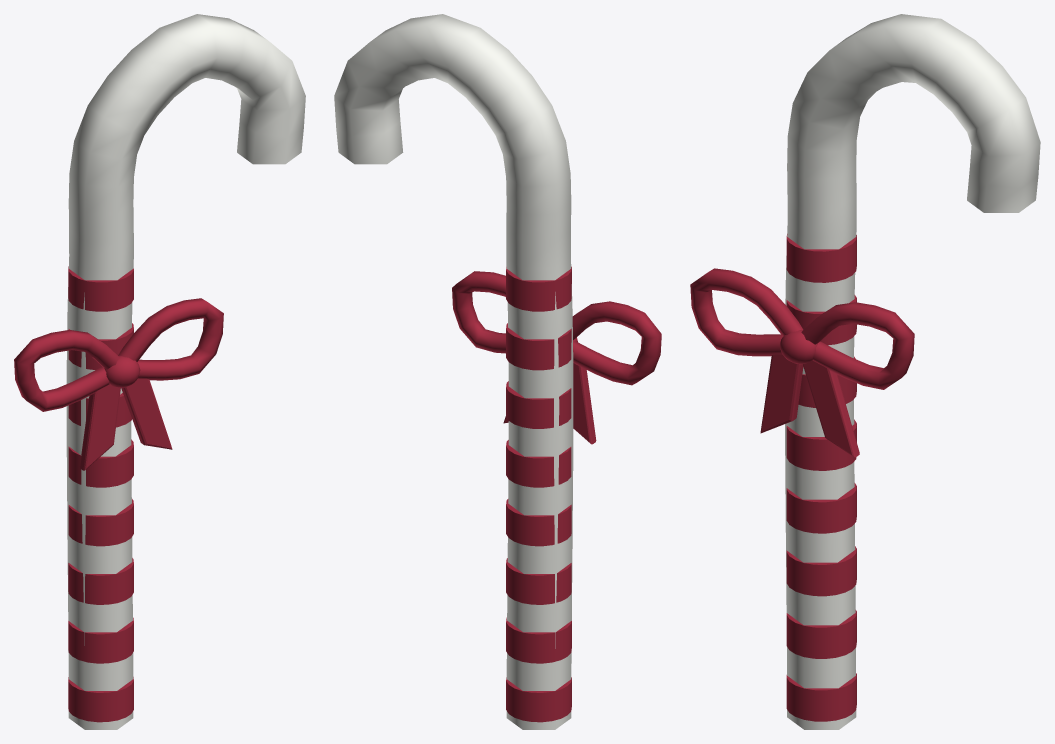
The model's file is christmas-storybook-ribbon-candy-cane-44f4f04d__18768.glb.
3 views of the same model, side by side, from view 1: azimuth 30°, elevation 25°; view 2: azimuth 150°, elevation 25°; view 3: azimuth 330°, elevation 25° (orthographic). The views are drawn at different scales.
Parts seen in each view (by area): view 1: cream, berry; view 2: cream, berry; view 3: cream, berry.
Boxes of the visible parts, x1=… form: cream: x1=66, y1=14, x2=305, y2=729; berry: x1=14, y1=266, x2=223, y2=722; cream: x1=334, y1=14, x2=573, y2=729; berry: x1=452, y1=266, x2=661, y2=722; cream: x1=785, y1=14, x2=1040, y2=729; berry: x1=690, y1=234, x2=914, y2=721.
Size of the model in its own units: 0.481 by 1.03 by 0.126.
